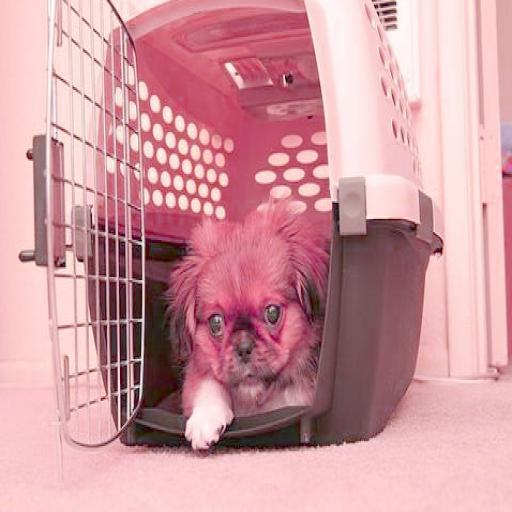dog_face: (175, 219, 322, 398)
